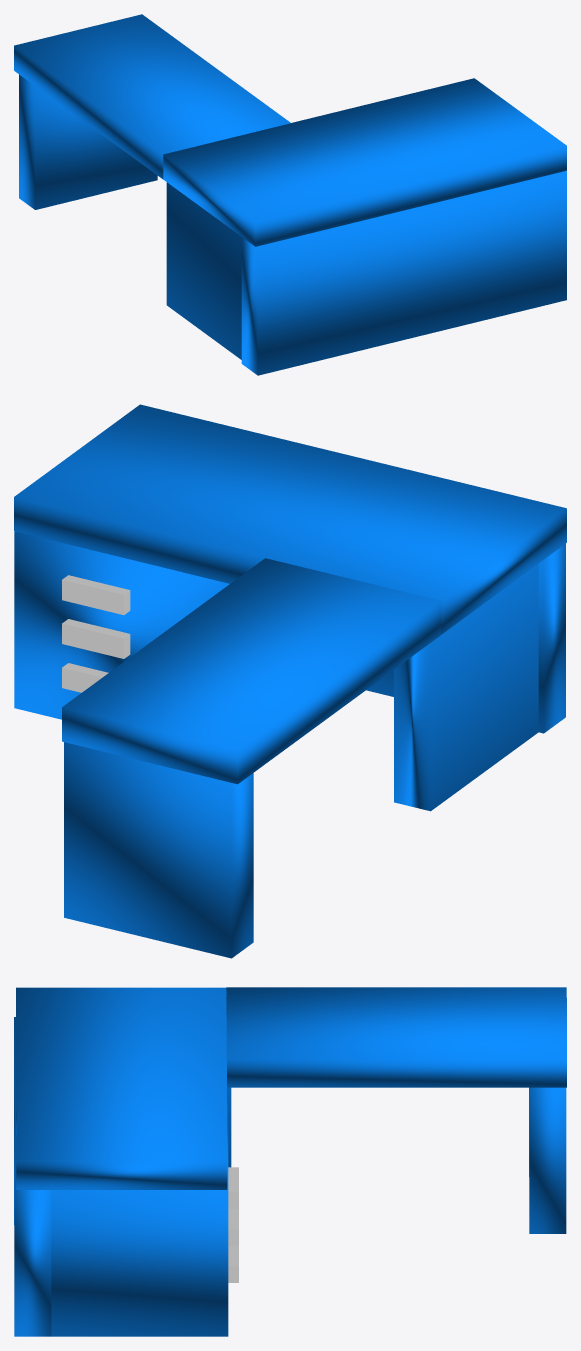
File: table.glb
3 renders of one model, top to bottom at view 1: azimuth 30°, elevation 25°; view 2: azimuth 150°, elevation 25°; view 3: azimuth 270°, elevation 25°, orthographic. The views are drawn at different scales.
Parts seen in each view (by area): view 1: Cube.002, Cube.005, Cube, Cube.001, Cube.008; view 2: Cube.005, Cube, Cube.001, Cube.008, Cube.003, Cube.002, Cube.004, Cube.006, Cube.007; view 3: Cube.005, Cube, Cube.003, Cube.002, Cube.001, Cube.004.
Part boxes in pixels (x1,y1,x2,y2): Cube.002: (241,171,566,375); Cube.005: (163,78,566,246); Cube: (14,14,290,179); Cube.001: (19,74,157,209); Cube.008: (166,182,241,359); Cube.005: (14,404,566,634); Cube: (62,558,441,784); Cube.001: (64,742,253,958); Cube.008: (394,563,538,811); Cube.003: (14,531,229,719); Cube.002: (366,543,565,733); Cube.004: (62,575,130,614); Cube.006: (62,619,130,658); Cube.007: (62,663,108,692); Cube.005: (16,987,227,1189); Cube: (226,987,566,1087); Cube.003: (51,1121,228,1336); Cube.002: (14,1017,51,1336); Cube.001: (529,1087,566,1233); Cube.004: (228,1167,238,1209).
Size of the model in its own units: 9.17 by 4.31 by 12.3.
